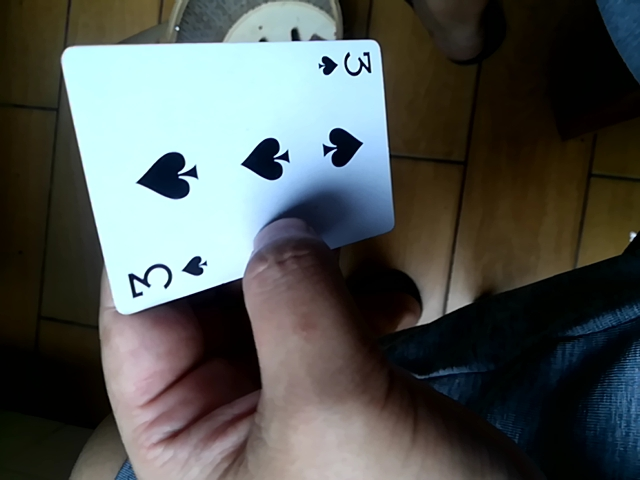ht 3: (66, 39, 390, 314)
